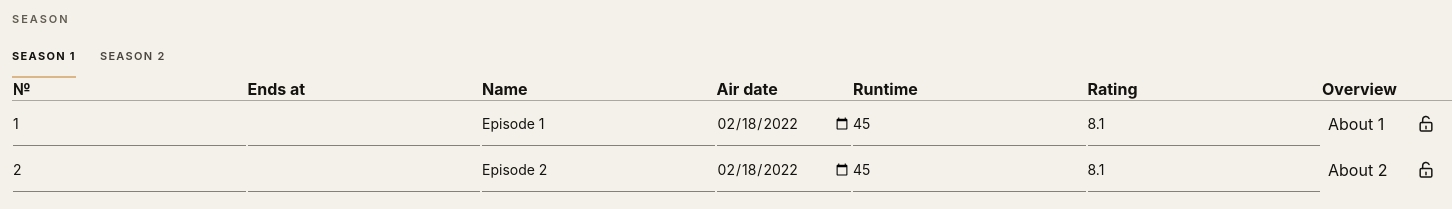
Test: EpisodesTab › loads the season named in the segmented control and shows one row per episode, ordered by number
expect the field named "Name of Episode 1" is shown: met, box [482,102,714,146]
Click the radio button labelled "Season 2" at (133, 56), box [100,49,166,63]
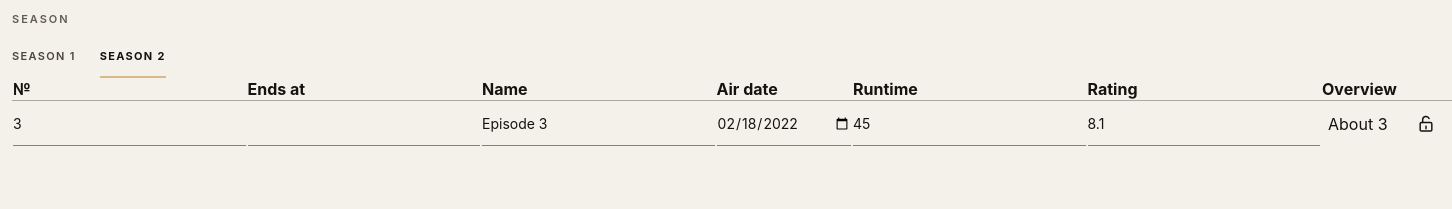
expect the field named "Name of Episode 3" is shown: met, box [482,102,714,146]
